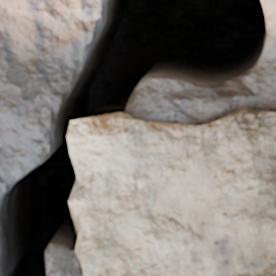brick: (68, 110, 275, 275)
crack: (0, 0, 273, 275)
